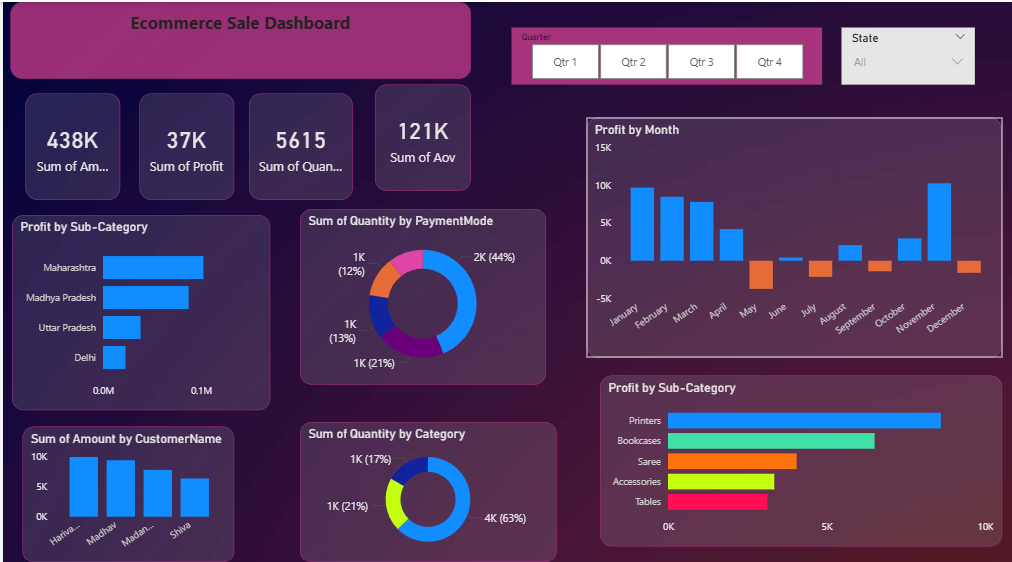

What the dashboard file says about the page in this screenshot:
{"tool":"powerbi","page":{"name":"Page 1","canvas":[1280,720],"ordinal":0},"visuals":[{"type":"textbox","box":[9.4,0,580.2,96.4],"z":0},{"type":"columnChart","title":"Profit by Month","fields":{"Y":["Details.Profit"],"Category":["Orders.Order Date.Variation.Date Hierarchy.Month"]},"box":[735.1,145.5,523.5,302.4],"z":1},{"type":"barChart","title":"Profit by Sub-Category","fields":{"Category":["Details.Sub-Category"],"Y":["Details.Profit"]},"box":[752.1,470.6,506.5,215.4],"z":2},{"type":"donutChart","fields":{"Category":["Details.Category"],"Y":["Details.Quantity"]},"box":[374.2,529.1,323.2,177.6],"z":3},{"type":"donutChart","fields":{"Y":["Details.Quantity"],"Category":["Details.PaymentMode"]},"box":[374.2,260.8,309.9,221.1],"z":4},{"type":"card","fields":{"Values":["Details.Amount"]},"box":[28.3,115.3,119.1,134.2],"z":5},{"type":"card","fields":{"Values":["Details.Profit"]},"box":[172,115.3,119.1,134.2],"z":6},{"type":"card","fields":{"Values":["Details.Quantity"]},"box":[313.7,103.9,130.4,134.2],"z":7},{"type":"card","fields":{"Values":["Details.Aov"]},"box":[468.7,103.9,120.9,134.2],"z":8},{"type":"barChart","title":"Profit by Sub-Category","fields":{"Category":["Orders.State"],"Y":["Details.Amount"]},"box":[11.3,268.3,325,245.7],"z":9},{"type":"columnChart","fields":{"Category":["Orders.CustomerName"],"Y":["Details.Amount"]},"box":[24.6,534.8,266.5,172],"z":10},{"type":"slicer","fields":{"Values":["Orders.Order Date.Variation.Date Hierarchy.Quarter"]},"box":[640.6,32.1,391.2,71.8],"z":11},{"type":"slicer","fields":{"Values":["Orders.State"]},"box":[1056.4,32.1,168.2,71.8],"z":12}]}

Visuals, with their boxes in screenshot pixels (x1, y1, x2, y2), scaled from the page's 1280x720 canvas onto the 1012x562 screenshot:
textbox: pyautogui.locateOnScreen(7, 0, 466, 75)
"Profit by Month" columnChart: pyautogui.locateOnScreen(581, 114, 995, 350)
"Profit by Sub-Category" barChart: pyautogui.locateOnScreen(595, 367, 995, 535)
donutChart - Details.Category x Details.Quantity: pyautogui.locateOnScreen(296, 413, 551, 552)
donutChart - Details.Quantity x Details.PaymentMode: pyautogui.locateOnScreen(296, 204, 541, 376)
card - Details.Amount: pyautogui.locateOnScreen(22, 90, 117, 195)
card - Details.Profit: pyautogui.locateOnScreen(136, 90, 230, 195)
card - Details.Quantity: pyautogui.locateOnScreen(248, 81, 351, 186)
card - Details.Aov: pyautogui.locateOnScreen(371, 81, 466, 186)
"Profit by Sub-Category" barChart: pyautogui.locateOnScreen(9, 209, 266, 401)
columnChart - Orders.CustomerName x Details.Amount: pyautogui.locateOnScreen(19, 417, 230, 552)
slicer - Orders.Order Date.Variation.Date Hierarchy.Quarter: pyautogui.locateOnScreen(506, 25, 816, 81)
slicer - Orders.State: pyautogui.locateOnScreen(835, 25, 968, 81)
